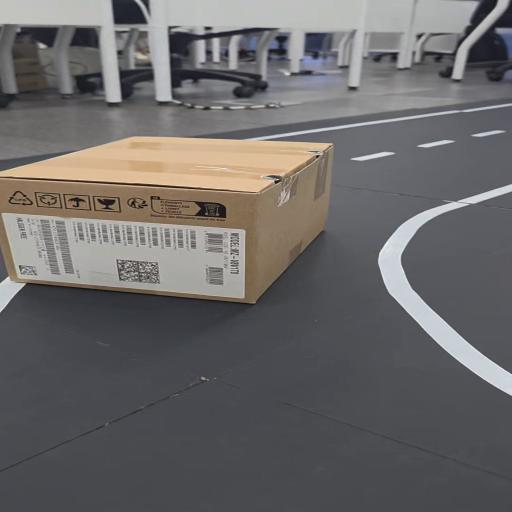Box: (5, 136, 353, 312)
